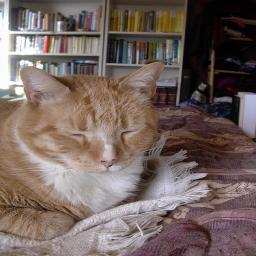catnose: (99, 156, 119, 168)
